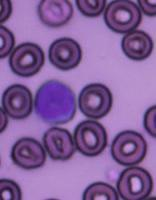L: (32, 80, 74, 123)
